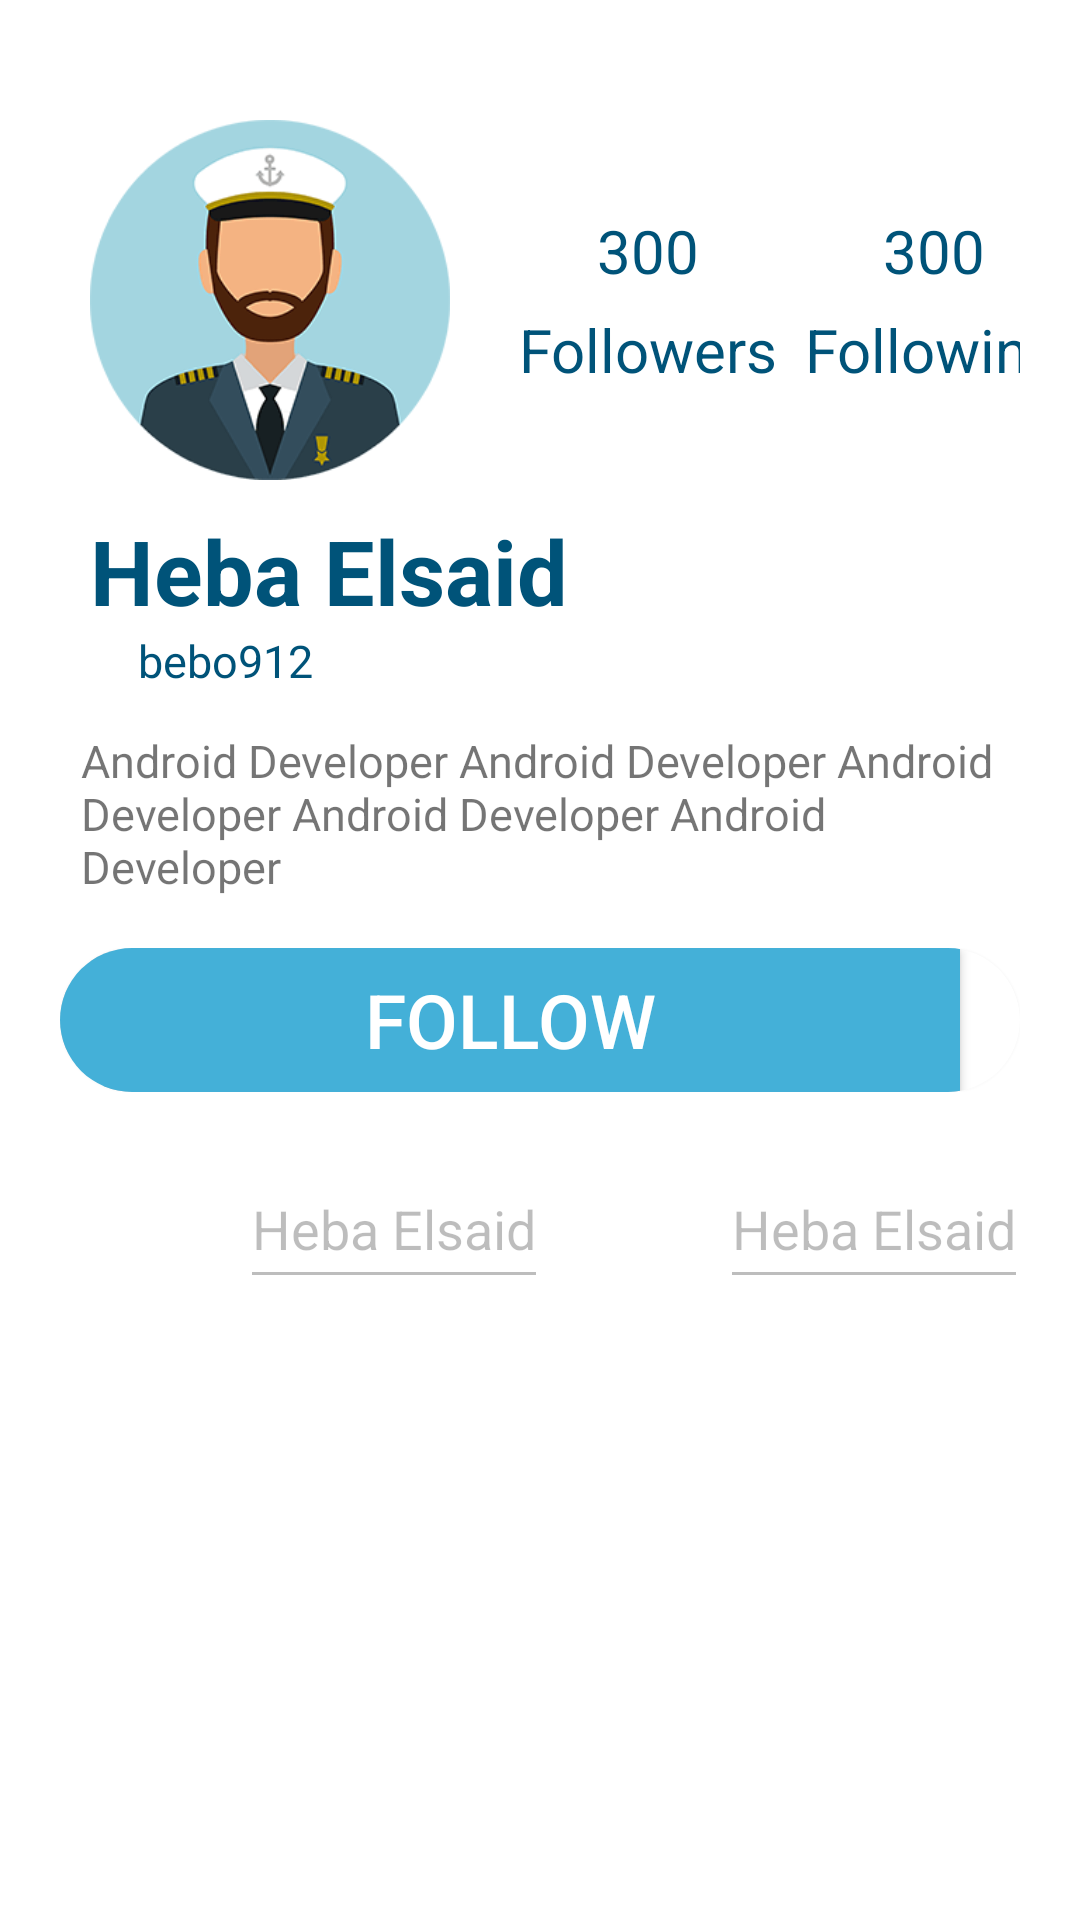

Icons on this 1080 x 1920 Android screen, each with the point to tap as [x,y]:
user: [270,300]
